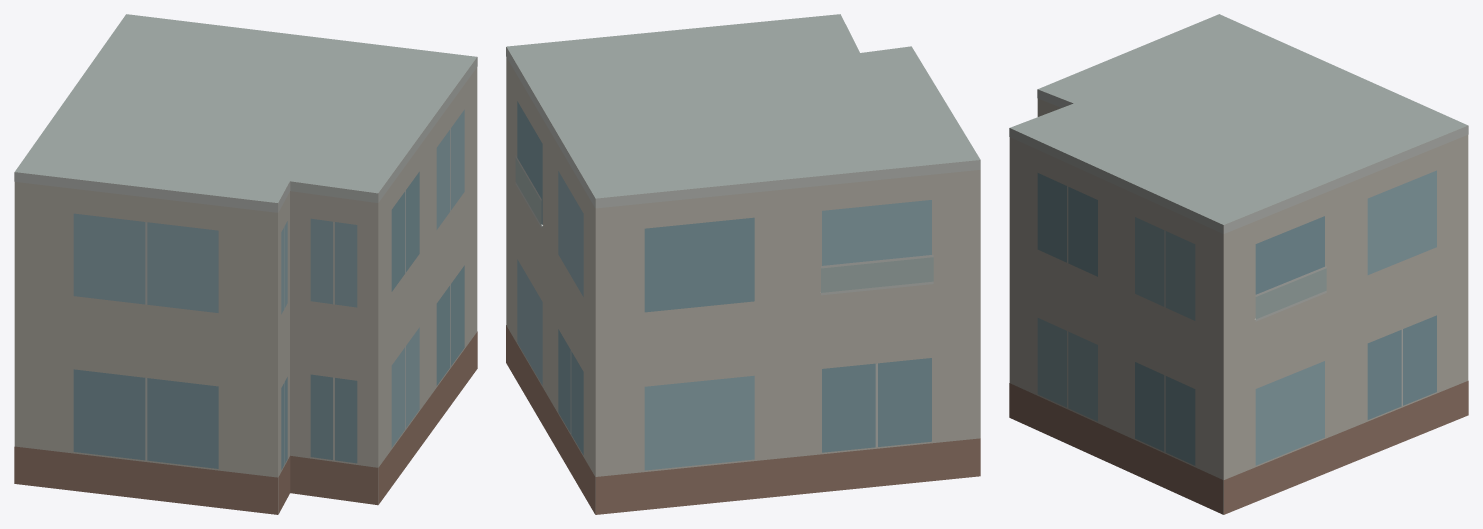
File: survey-upis-32615442.glb
The picture shows the model from 3 angles, left to right: view 1: azimuth 30°, elevation 25°; view 2: azimuth 150°, elevation 25°; view 3: azimuth 270°, elevation 25°; orthographic projection. The views are drawn at different scales.
Visible parts, largest first — view 1: survey-upis-32615442.tmp; view 2: survey-upis-32615442.tmp; view 3: survey-upis-32615442.tmp.
Part boxes in pixels (<box>): survey-upis-32615442.tmp: <box>14,14,477,514</box>; survey-upis-32615442.tmp: <box>506,14,980,514</box>; survey-upis-32615442.tmp: <box>1009,14,1468,514</box>.
Bounding box in the file's own units: 12.19 × 7.8 × 11.2.
